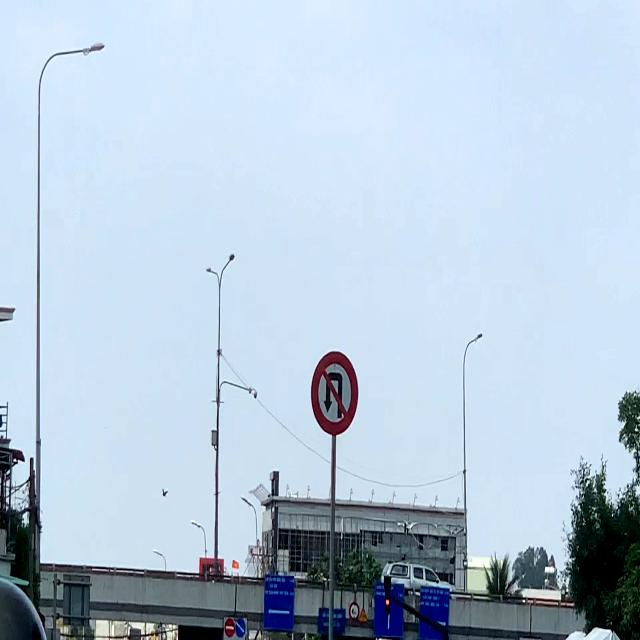P.102: (224, 618, 235, 638)
P.117: (348, 600, 360, 620)
P.124a: (307, 344, 365, 443)
R.302a: (235, 618, 246, 638)
